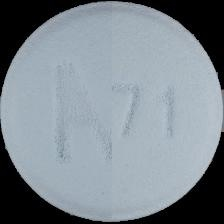55289-236: (0, 0, 224, 224)
